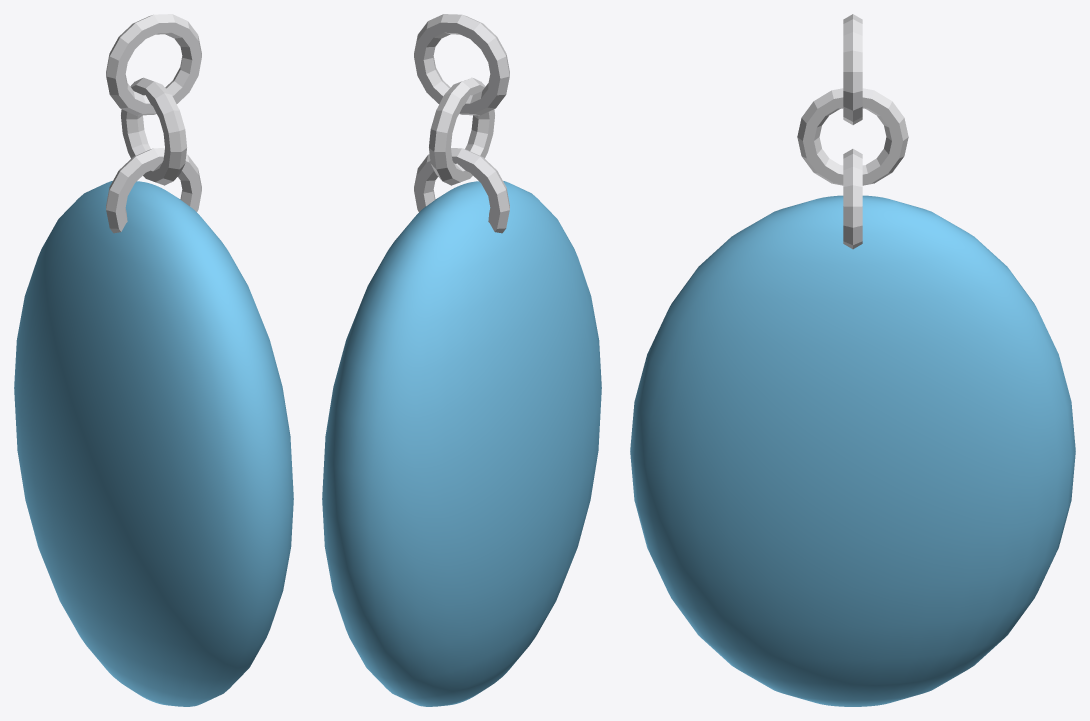
File: demo_gem_drop.glb
The picture shows the model from 3 angles, left to right: view 1: azimuth 30°, elevation 25°; view 2: azimuth 150°, elevation 25°; view 3: azimuth 270°, elevation 25°; orthographic projection.
Visible parts, largest first — view 1: demo_gem_drop; view 2: demo_gem_drop; view 3: demo_gem_drop.
Boxes of the visible parts, x1,y1,x2,y2 form: demo_gem_drop: (14,14,293,706); demo_gem_drop: (322,14,601,706); demo_gem_drop: (630,14,1075,706).
Bounding box in the file's own units: 0.0081 × 0.0305 × 0.018.
